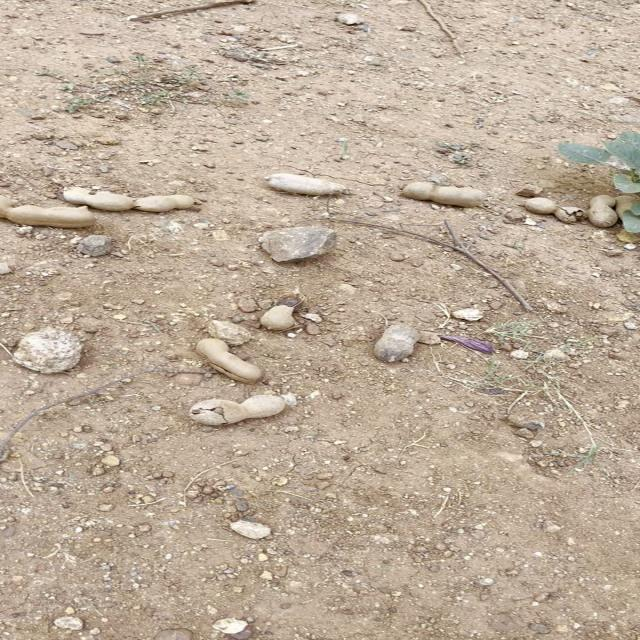tamarind: (55, 181, 198, 211), (190, 339, 267, 382), (186, 397, 284, 425), (394, 180, 487, 203), (263, 169, 349, 193), (0, 204, 92, 223), (587, 192, 614, 228)
